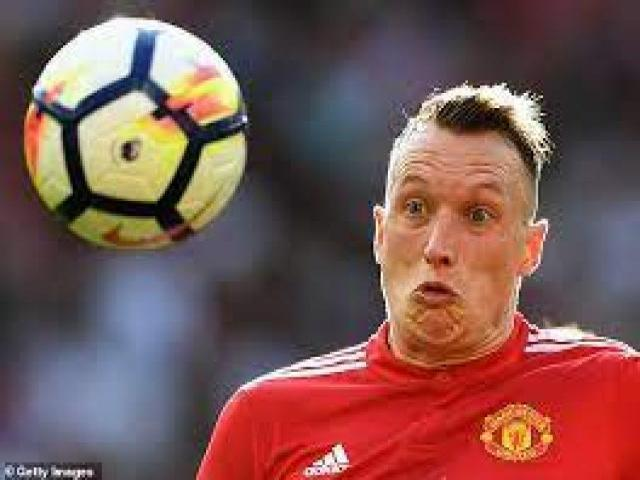round ball: (25, 18, 246, 249)
